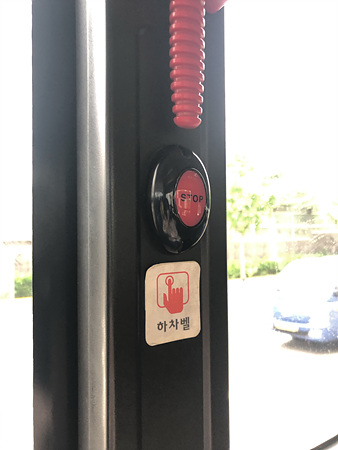bell: (149, 144, 210, 256)
